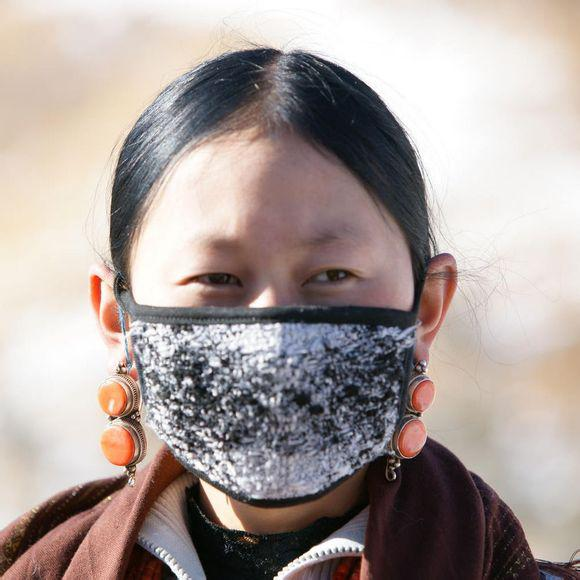OK: (124, 186, 420, 494)
